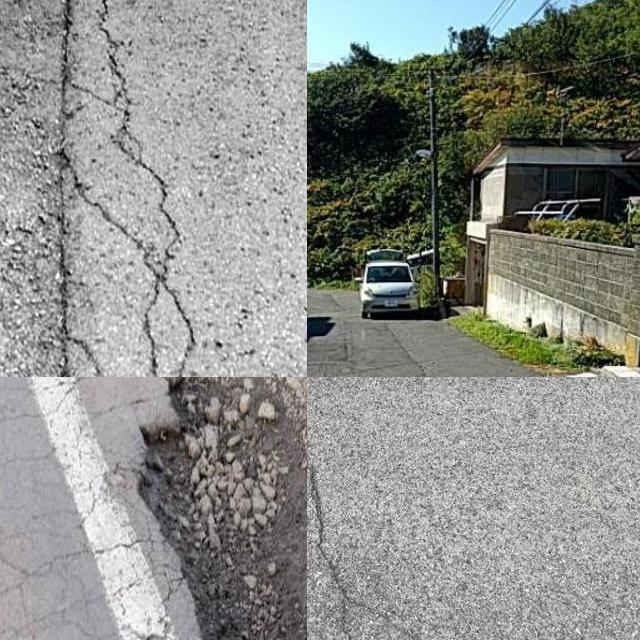Memanjang: (37, 0, 221, 377), (307, 377, 381, 640)
Pinggir: (133, 377, 307, 640)
